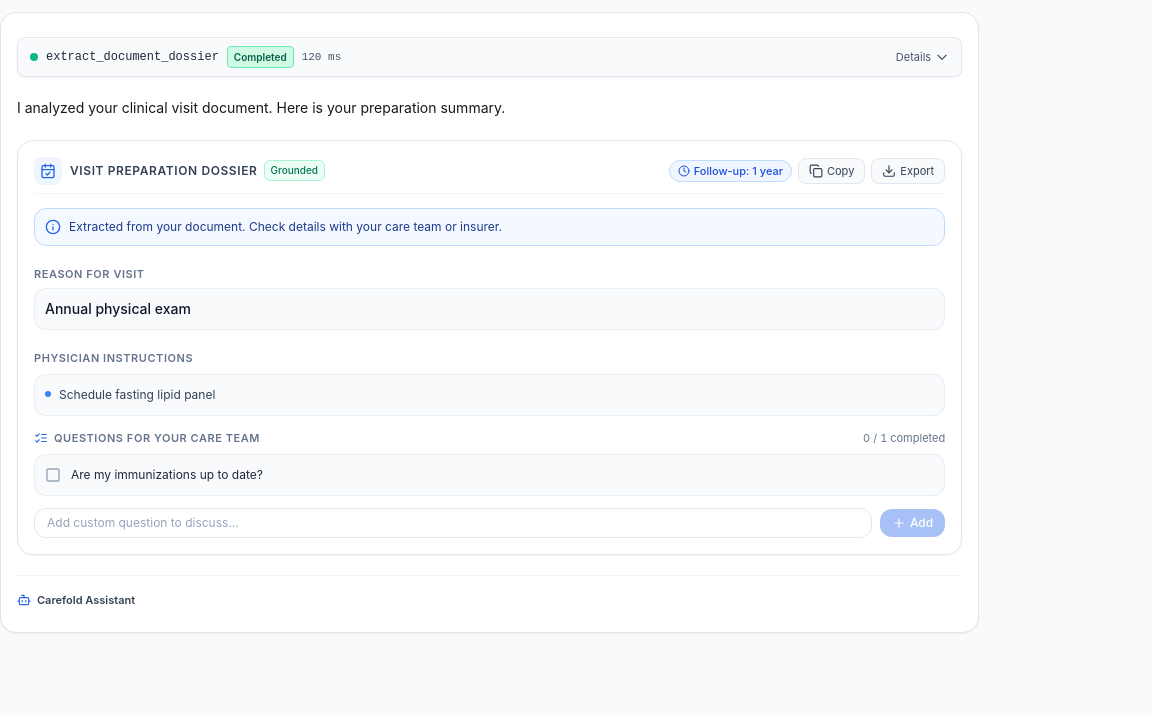
Test: DossierCard & Typed Dossier Components (Issue #94) › ChatMessageItem Integration with DossierCard › renders DossierCard below message while preserving raw ToolTraceCard in embedded-tool-traces
Expected: the text "I analyzed your clinical visit document" is shown, [17,99,505,116]
Expected: the element with test id "chat-message-dossiers" is shown, [17,132,962,563]
# Raw JSON trace remains accessible in ToolTraceCard
Click the button "extract_document_dossier Completed 120 ms Details". click: (132, 57)
box: [18,38,961,76]
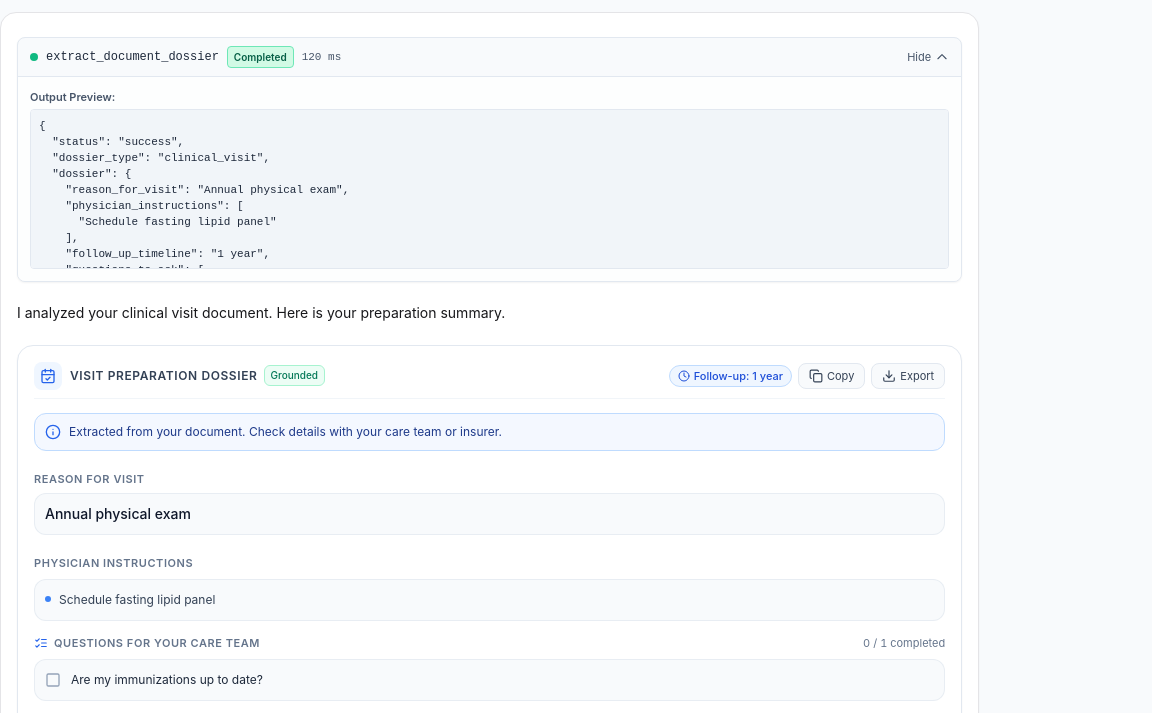
Expected: the text with test id "tool-trace-output" shows "\"dossier_type\": \"clinical_visit\"", [39,120,349,282]
